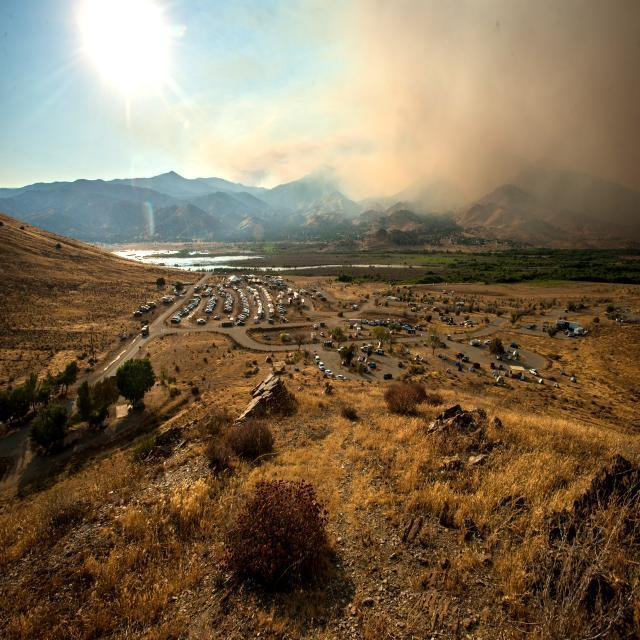Smoke: (321, 0, 640, 242)
